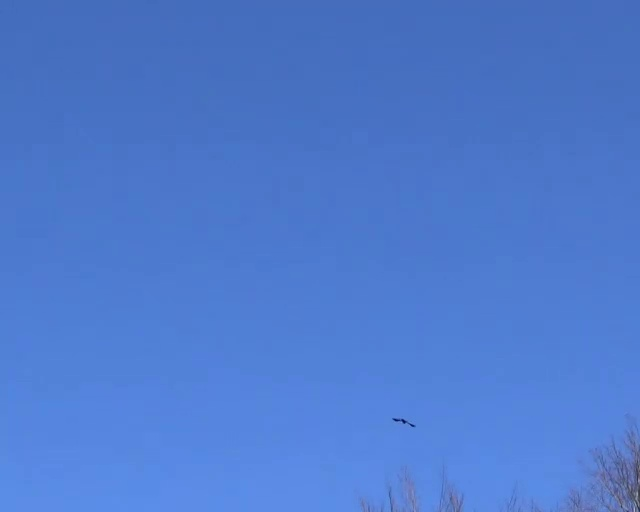BIRD: (392, 417, 415, 427)
